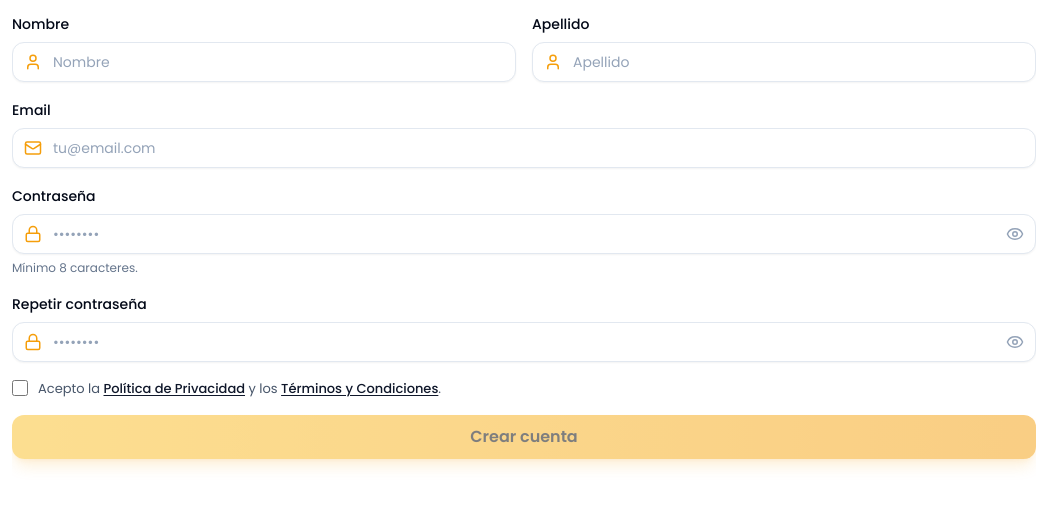
it: RegisterForm › limpia el aviso mientras el usuario tipea, apenas coincide
In the password field labelled "Contraseña": [524, 234] box [12,214,1036,254], type "password123"
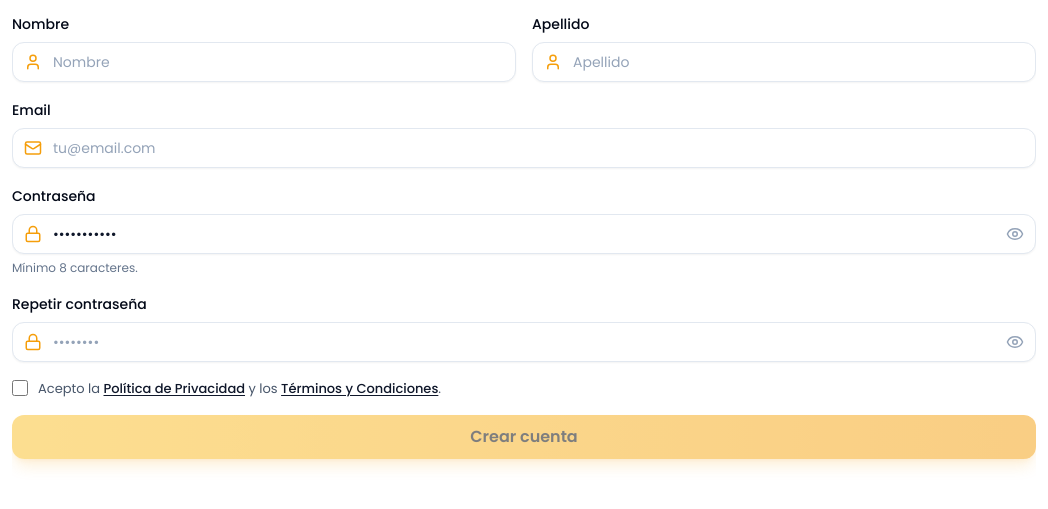
In the password field labelled "Repetir contraseña": [524, 342] box [12,322,1036,362], type "otra-cosa"
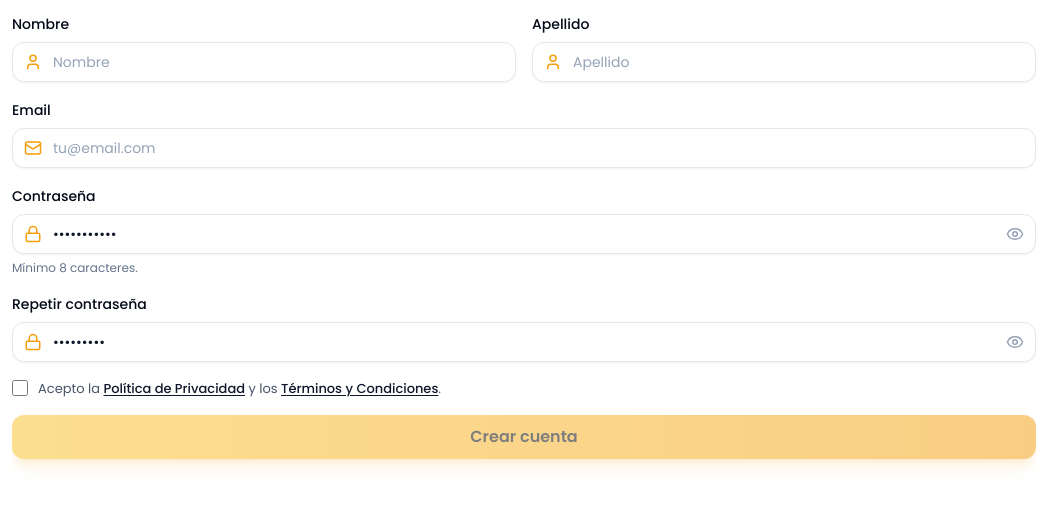
Leave the password field labelled "Repetir contraseña", box [12,322,1036,362]
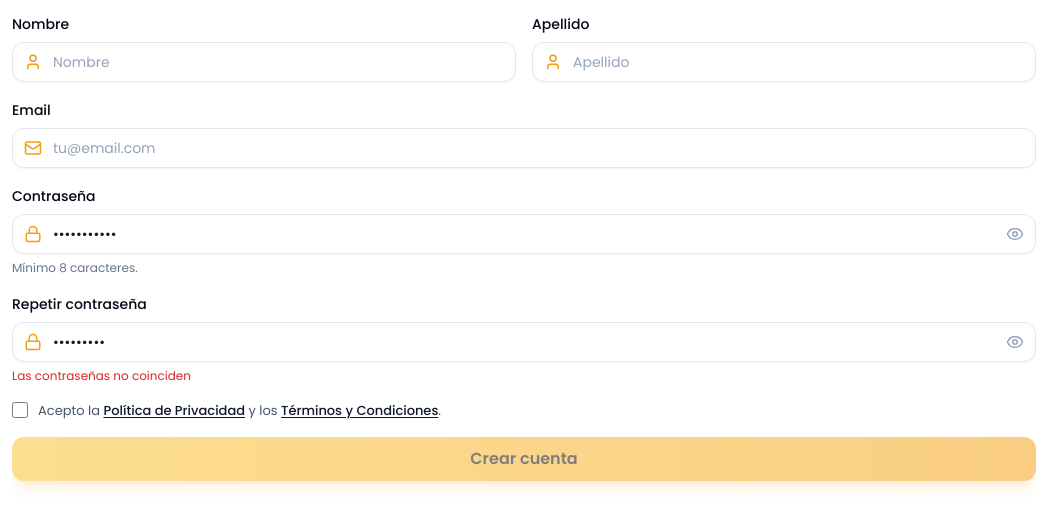
Expected: the text "Las contraseñas no coinciden" is shown, [12,367,191,384]
In the password field labelled "Repetir contraseña": [524, 342] box [12,322,1036,362], type "password123"
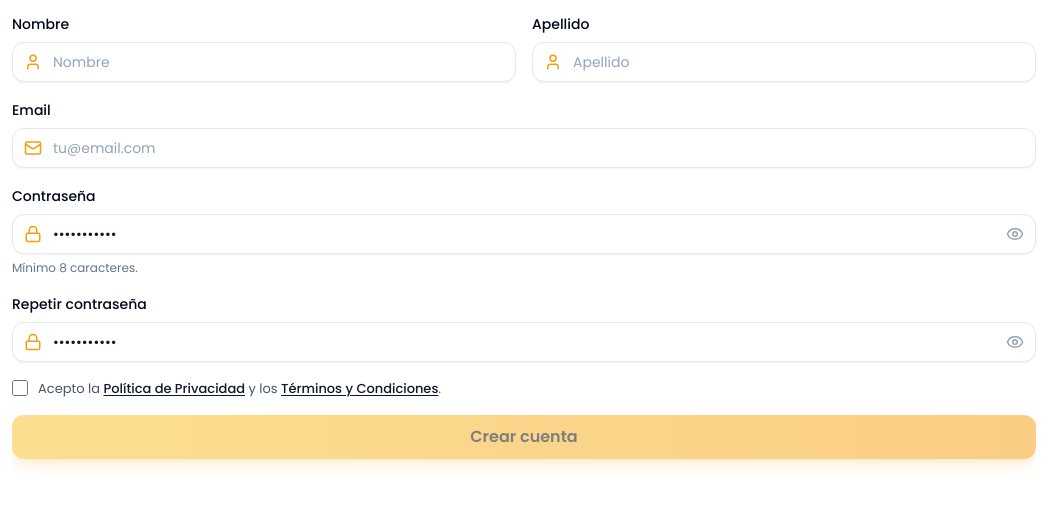
Expected: the text "Las contraseñas no coinciden" is gone
